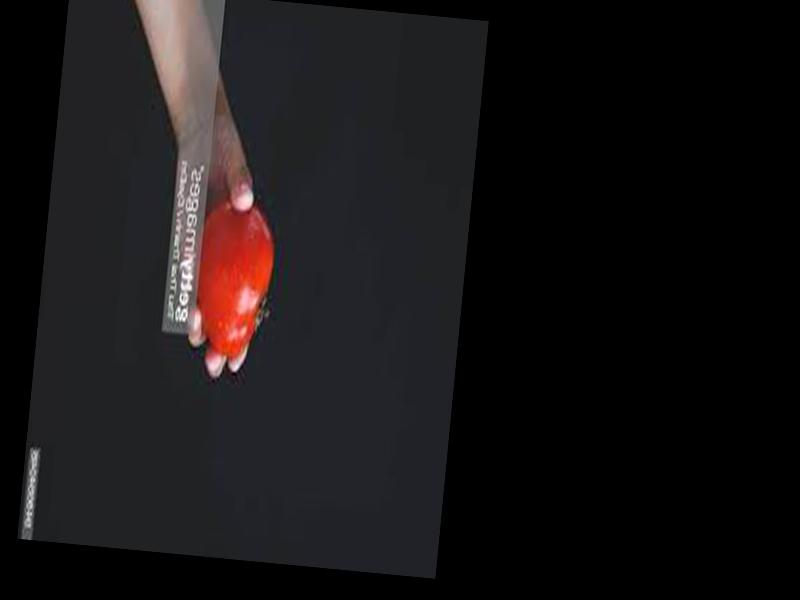Tomato: (187, 202, 278, 365)
